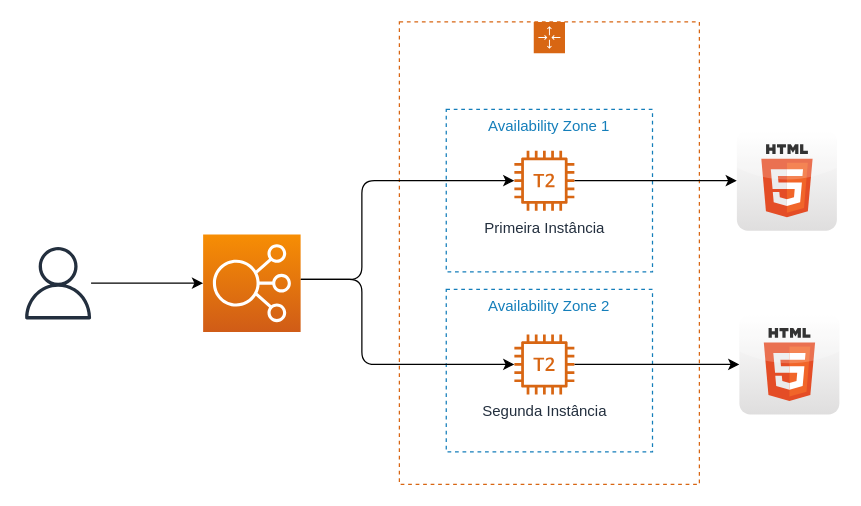
Image size: 861x506. Some labels were removed from this diagram. The shapes that lost their labels are listed below. From the top down, each one's box as (x1, y1, x2, y2) in pixels, then its label:
(398, 21, 699, 484): Auto Scaling group
(202, 233, 301, 332): Elastic Load Balancer
